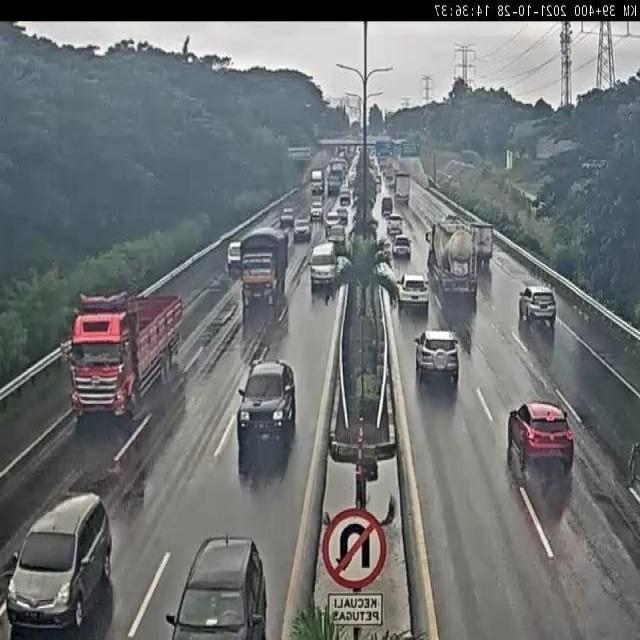Car: (6, 494, 111, 631), (166, 535, 268, 640), (508, 400, 574, 476), (414, 329, 460, 386), (519, 286, 557, 326), (396, 273, 429, 311), (291, 218, 310, 242), (392, 234, 412, 256), (327, 225, 346, 246), (386, 213, 404, 234), (325, 211, 341, 234), (310, 202, 324, 222), (280, 209, 294, 224)
Truck: (68, 290, 183, 420), (237, 360, 295, 444), (426, 213, 478, 301), (240, 228, 289, 308), (471, 221, 494, 269), (393, 170, 412, 204), (310, 168, 324, 194)
Van: (309, 243, 339, 289)
